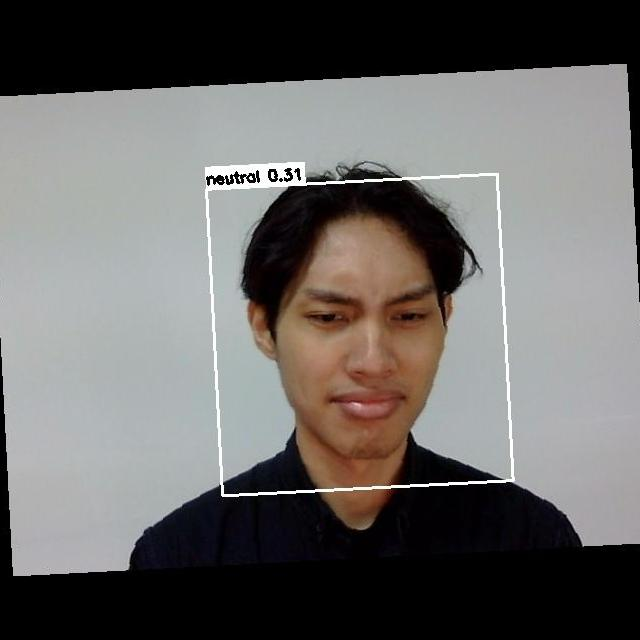Disgust: (282, 268, 449, 435)
